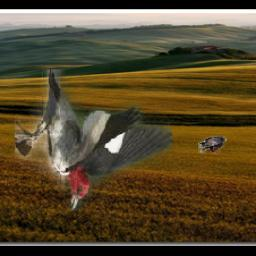Crow: (199, 137, 228, 154)
Woodpecker: (16, 70, 173, 212)
